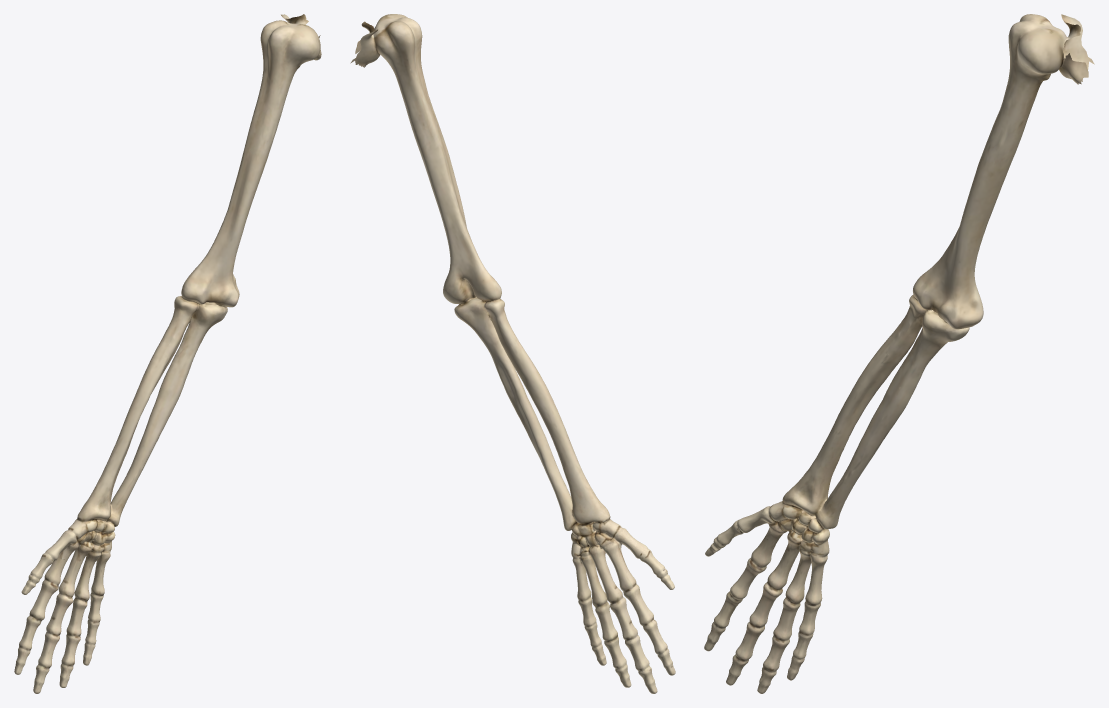
The model's file is BrazoDer.obj.
The picture shows the model from 3 angles, left to right: view 1: azimuth 30°, elevation 25°; view 2: azimuth 150°, elevation 25°; view 3: azimuth 330°, elevation 25°; orthographic projection. The views are drawn at different scales.
Parts seen in each view (by area): view 1: BrazoDer; view 2: BrazoDer; view 3: BrazoDer.
Part boxes in pixels (x1=…): BrazoDer: x1=14, y1=14, x2=321, y2=693; BrazoDer: x1=350, y1=14, x2=675, y2=693; BrazoDer: x1=704, y1=14, x2=1094, y2=693.
Size of the model in its own units: 0.3784 by 0.7086 by 0.0685.
1 material, 1 textured.
